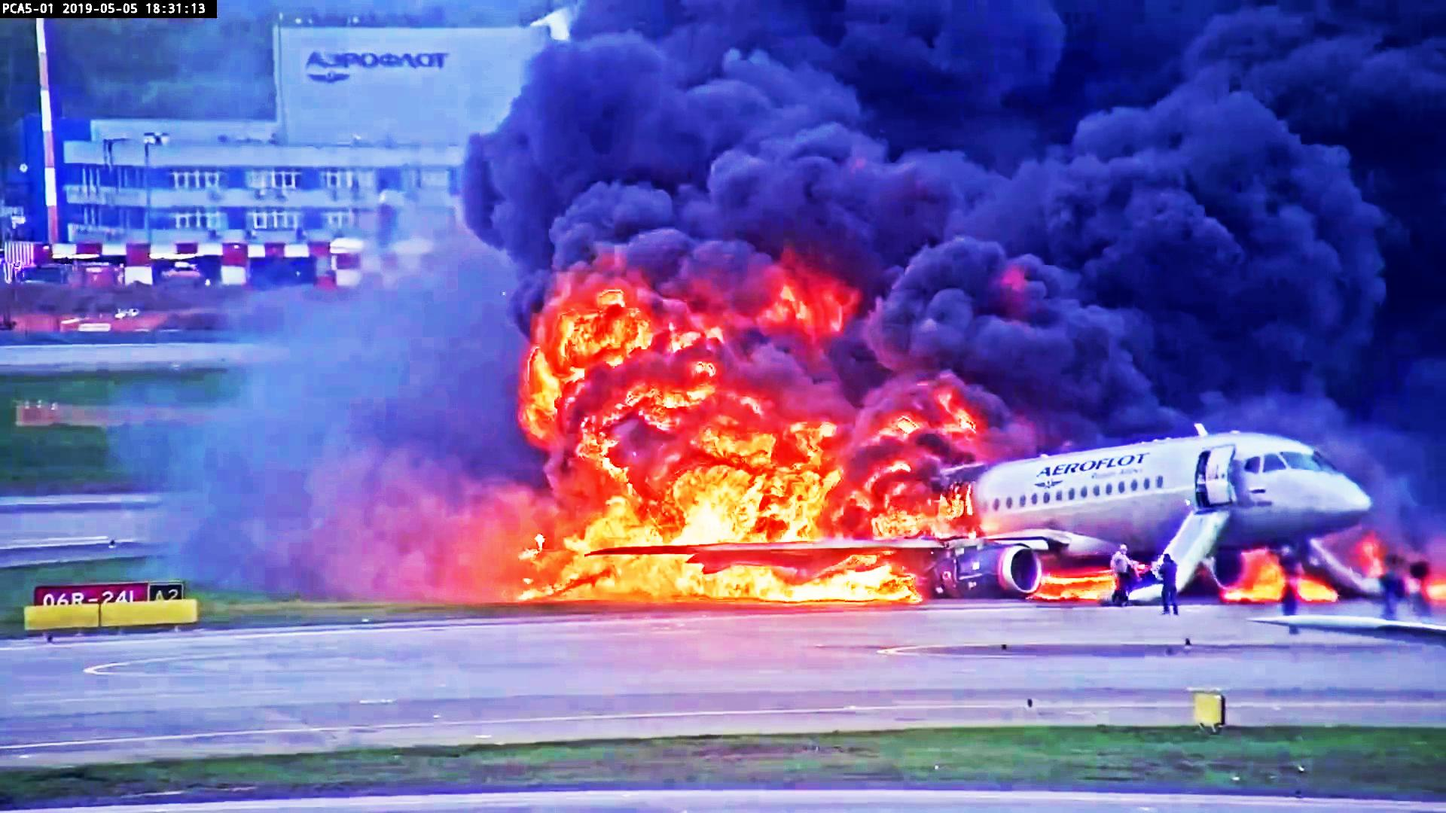fire: (543, 550, 910, 604), (684, 467, 838, 535)
smoke: (1028, 83, 1397, 386), (742, 61, 1046, 354), (497, 46, 795, 287)
